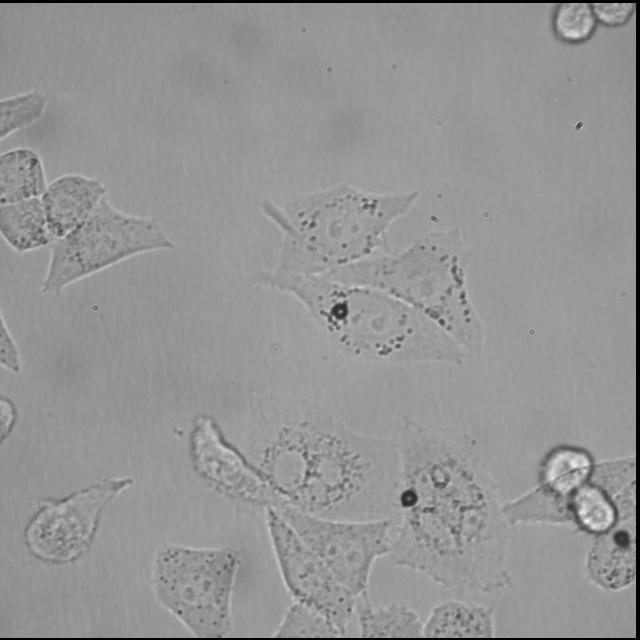microbeads: (400, 487, 418, 503), (332, 302, 348, 318)
